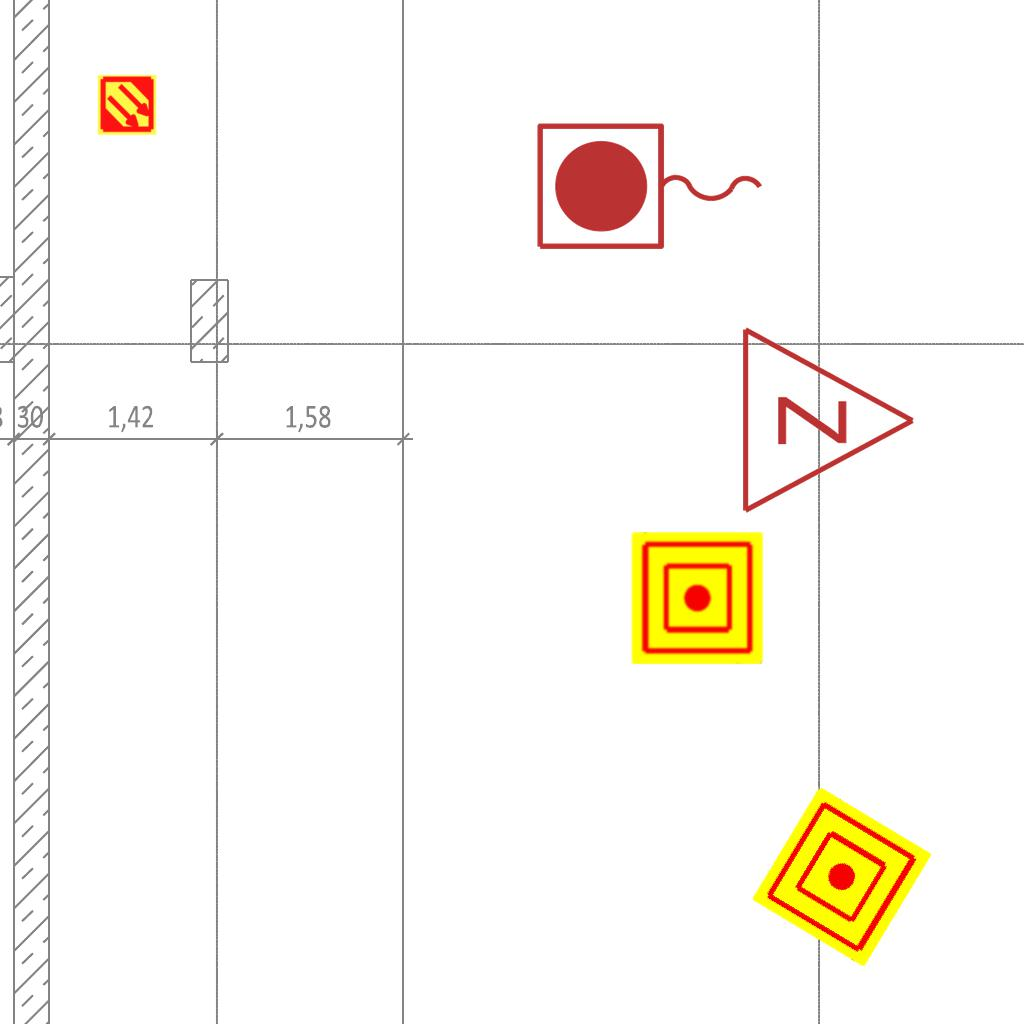ASR_Ansaugrauchmelder: (96, 74, 158, 136)
NAM-Nichtautomatischer_Melder: (751, 786, 933, 968), (631, 532, 763, 664)
Zimmersignalleuchte: (728, 320, 928, 516)
Zugtaster: (529, 116, 773, 260)
